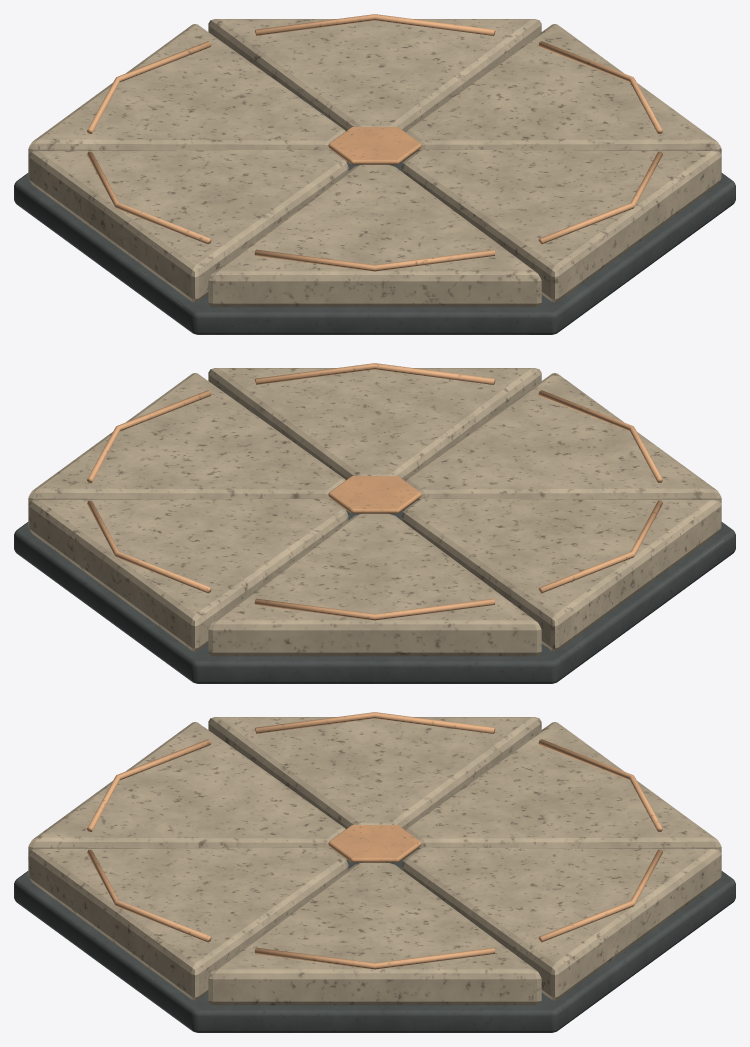
Rendered from junction-paving.glb.
3 views of the same model, one above another, from view 1: azimuth 30°, elevation 25°; view 2: azimuth 150°, elevation 25°; view 3: azimuth 270°, elevation 25° (orthographic).
Visible parts, largest first — view 1: GEO-static-PBR; view 2: GEO-static-PBR; view 3: GEO-static-PBR.
Boxes of the visible parts, box(x1,y1,x2,y2) form: GEO-static-PBR: box(14, 14, 735, 334); GEO-static-PBR: box(14, 363, 735, 683); GEO-static-PBR: box(14, 712, 735, 1032).
Bounding box in the file's own units: 1.73 × 0.1948 × 1.99.
1 material, 1 textured.
